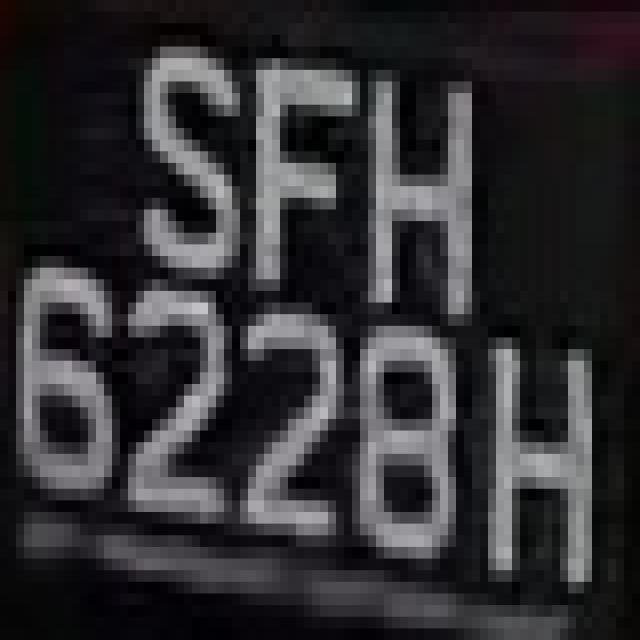2: (104, 256, 232, 559), (232, 326, 368, 582)
6: (8, 232, 136, 524)
8: (336, 303, 464, 616)
F: (240, 23, 344, 314)
H: (480, 291, 608, 617), (344, 70, 488, 337)
S: (112, 35, 240, 302)
